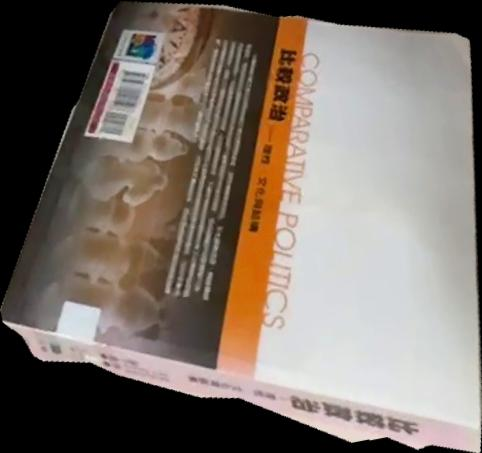flat: (1, 1, 482, 453)
